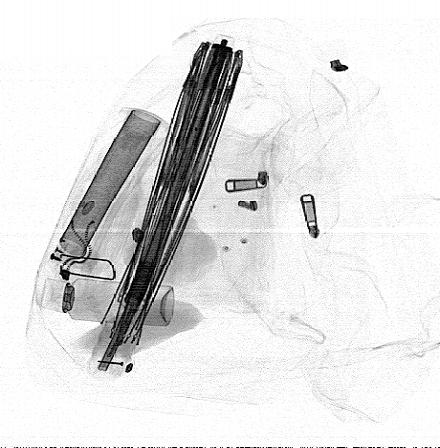Sprayer: (40, 277, 174, 326)
